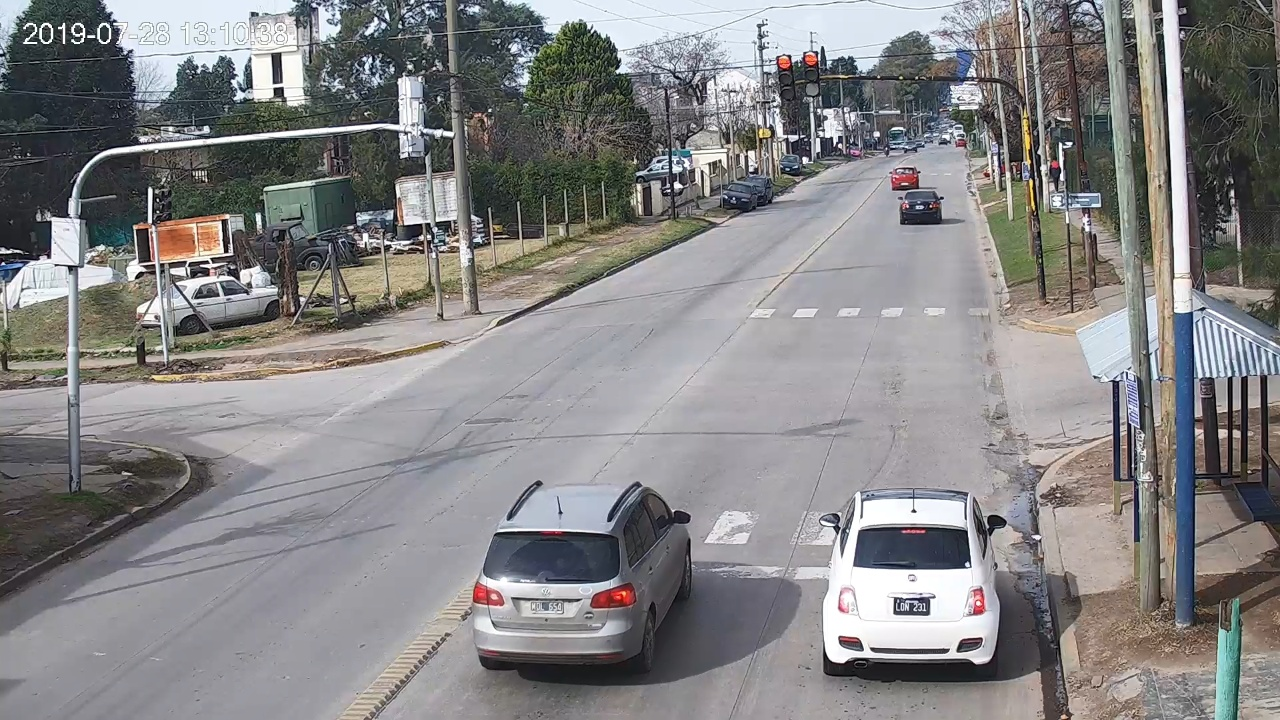car: (474, 480, 692, 675), (819, 488, 1007, 675), (898, 191, 944, 225)
traffic light: (777, 55, 795, 99), (804, 52, 820, 96)
